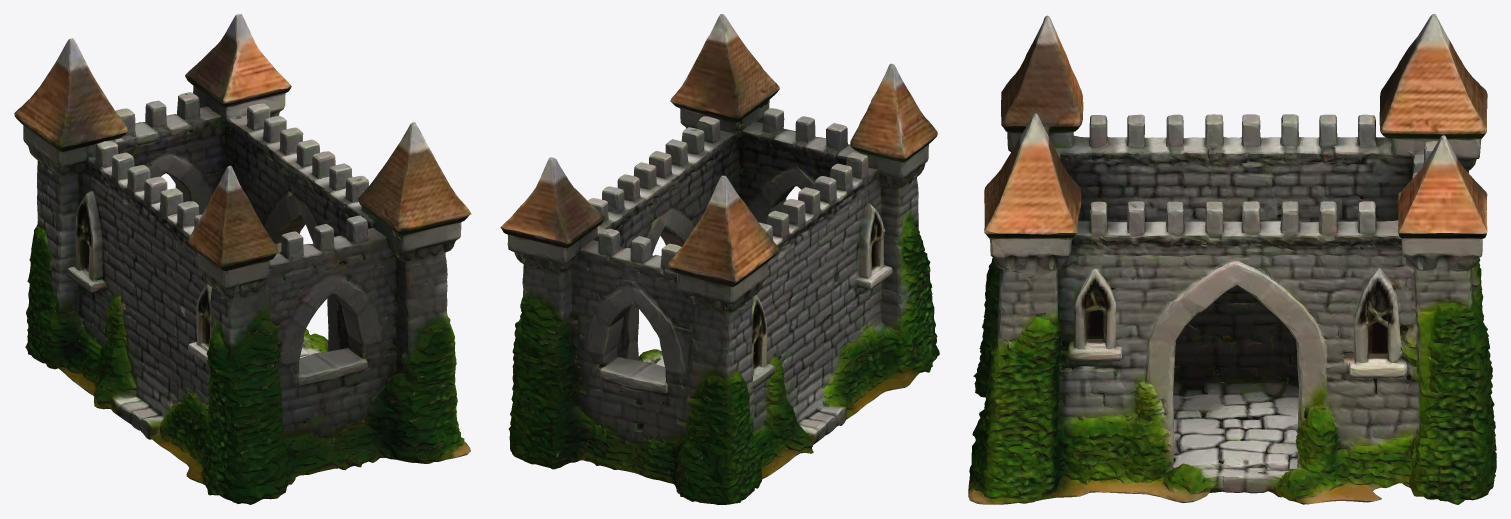
File: nature_rock_small_01.glb
3 renders of one model, left to right at view 1: azimuth 30°, elevation 25°; view 2: azimuth 150°, elevation 25°; view 3: azimuth 270°, elevation 25°, orthographic. The views are drawn at different scales.
Parts seen in each view (by area): view 1: geometry_0; view 2: geometry_0; view 3: geometry_0.
Part boxes in pixels (x1,y1,x2,y2): geometry_0: (14, 14, 471, 504); geometry_0: (500, 14, 939, 504); geometry_0: (968, 14, 1496, 504).
Bounding box in the file's own units: 0.6263 × 0.7953 × 1.
Materials: 1 (1 with a texture image).
